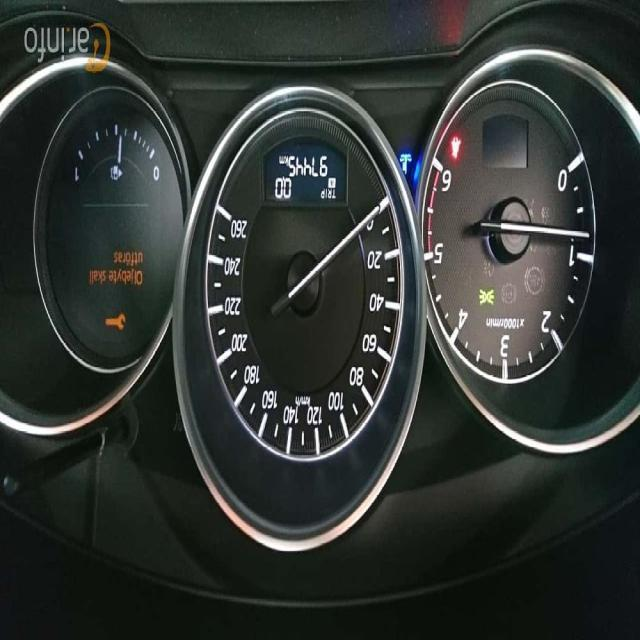Seat Belt: (449, 135, 462, 160)
